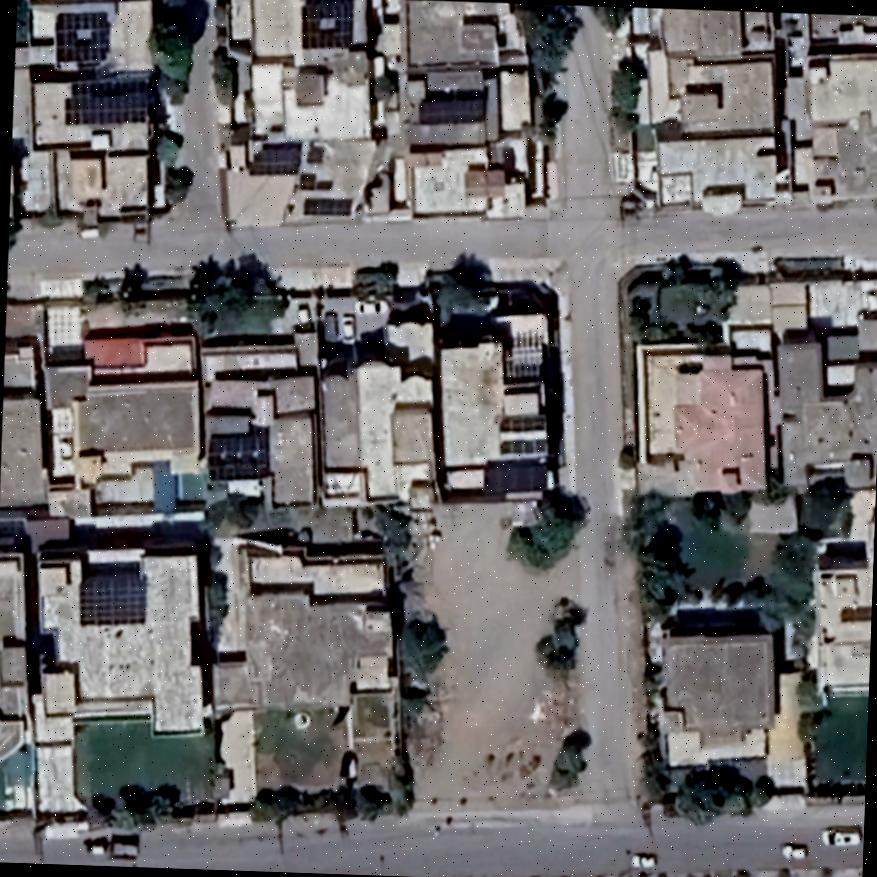Solarpanel: (60, 74, 154, 126), (200, 424, 276, 483), (76, 572, 150, 629), (52, 8, 114, 66), (413, 87, 489, 129), (297, 0, 356, 51), (480, 458, 551, 498), (246, 143, 303, 176), (300, 195, 356, 220), (494, 410, 547, 434), (495, 434, 550, 455), (295, 170, 333, 192), (305, 144, 328, 165)
